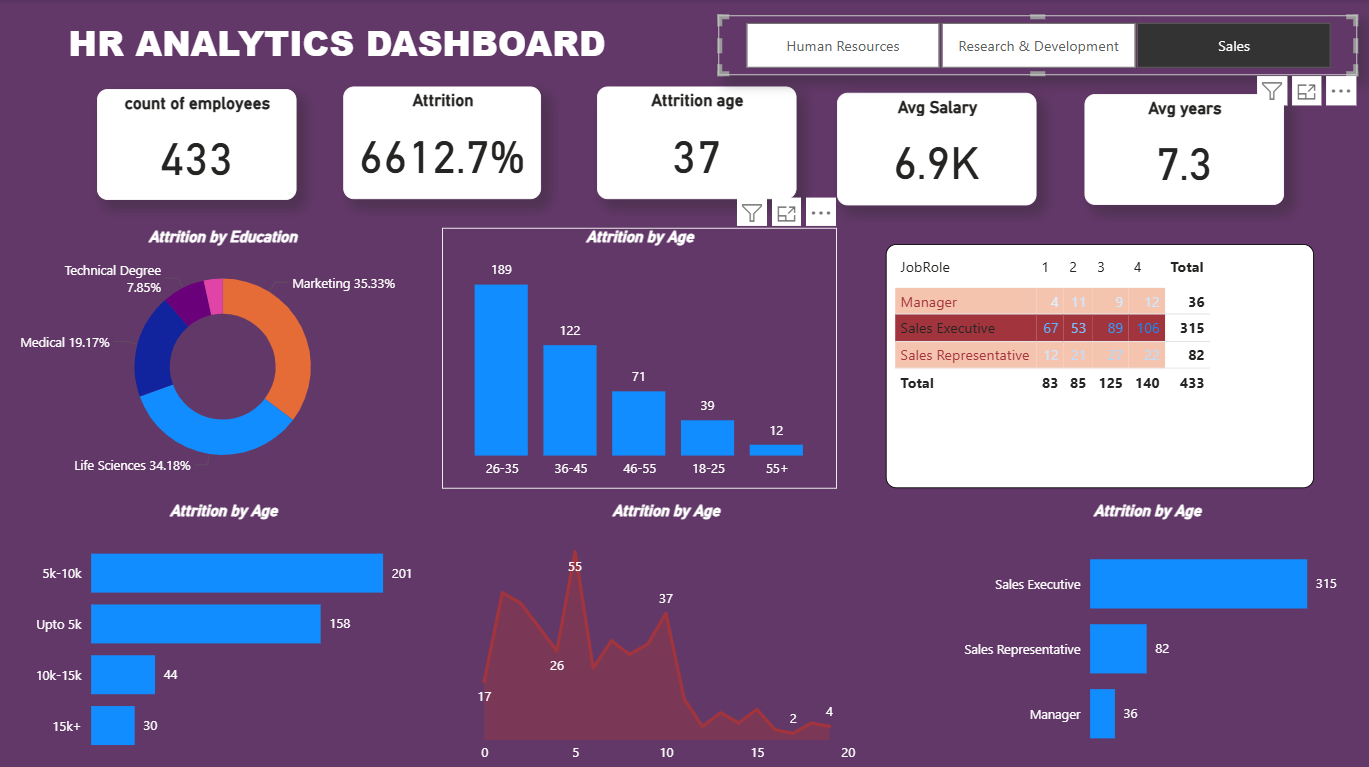

The page's visual inventory and layout, read from the dashboard file:
{"tool":"powerbi","page":{"name":"Page 1","canvas":[1280,720],"ordinal":0},"visuals":[{"type":"card","title":"count of employees","fields":{"Values":["CountNonNull(HR_Analytics.EmpID)"]},"box":[93.3,83.2,185.4,103.4],"z":0},{"type":"card","title":"Attrition","fields":{"Values":["HR_Analytics.AttritionCountt"]},"box":[321.6,82,184.1,104.7],"z":1000},{"type":"card","title":"Attrition age","fields":{"Values":["Avg(HR_Analytics.Age)"]},"box":[558.7,82,185.4,104.7],"z":2000},{"type":"card","title":"Avg Salary","fields":{"Values":["Avg(HR_Analytics.MonthlyIncome)"]},"box":[781.9,87,185.4,104.7],"z":3000},{"type":"card","title":"Avg years","fields":{"Values":["Avg(HR_Analytics.YearsAtCompany)"]},"box":[1011.4,88.3,185.4,103.4],"z":4000},{"type":"donutChart","title":"Attrition by Education","fields":{"Category":["HR_Analytics.EducationField"],"Y":["CountNonNull(HR_Analytics.AttritionCount)"]},"box":[12.6,213.1,394.7,242.1],"z":5000},{"type":"columnChart","title":"Attrition by Age","fields":{"Category":["HR_Analytics.AgeGroup"],"Y":["CountNonNull(HR_Analytics.AttritionCount)"]},"box":[413.6,213.1,368.2,242.1],"z":6000},{"type":"pivotTable","fields":{"Rows":["HR_Analytics.JobRole"],"Columns":["HR_Analytics.JobSatisfaction"],"Values":["Sum(HR_Analytics.EmployeeCount)"]},"box":[827.3,228.3,398.5,227],"z":7000},{"type":"barChart","title":"Attrition by Age","fields":{"Category":["HR_Analytics.SalarySlab"],"Y":["CountNonNull(HR_Analytics.AttritionCount)"]},"box":[26.5,467.9,368.2,252.2],"z":8000},{"type":"barChart","title":"Attrition by Age","fields":{"Category":["HR_Analytics.JobRole"],"Y":["CountNonNull(HR_Analytics.AttritionCount)"]},"box":[886.5,467.9,368.2,252.2],"z":9000},{"type":"areaChart","title":"Attrition by Age","fields":{"Category":["HR_Analytics.YearsAtCompany"],"Y":["CountNonNull(HR_Analytics.AttritionCount)"]},"box":[438.9,467.9,368.2,252.2],"z":10000},{"type":"slicer","fields":{"Values":["HR_Analytics.Department"]},"box":[670.9,15.1,594,55.5],"z":10001},{"type":"textbox","box":[61.8,12.6,536,69.4],"z":10002}]}

Visuals, with their boxes in screenshot pixels (x1, y1, x2, y2), scaled from the page's 1280x720 canvas onto the 1369x767 screenshot:
"count of employees" card: rect(100, 89, 298, 199)
"Attrition" card: rect(344, 87, 541, 199)
"Attrition age" card: rect(598, 87, 796, 199)
"Avg Salary" card: rect(836, 93, 1035, 204)
"Avg years" card: rect(1082, 94, 1280, 204)
"Attrition by Education" donutChart: rect(13, 227, 436, 485)
"Attrition by Age" columnChart: rect(442, 227, 836, 485)
pivotTable - HR_Analytics.JobRole x HR_Analytics.JobSatisfaction: rect(885, 243, 1311, 485)
"Attrition by Age" barChart: rect(28, 498, 422, 766)
"Attrition by Age" barChart: rect(948, 498, 1342, 766)
"Attrition by Age" areaChart: rect(469, 498, 863, 766)
slicer - HR_Analytics.Department: rect(718, 16, 1353, 75)
textbox: rect(66, 13, 639, 87)
